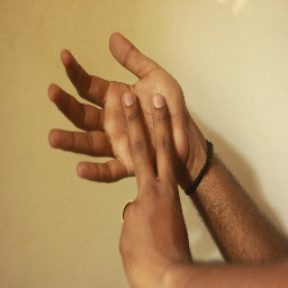N: (35, 23, 200, 256)
